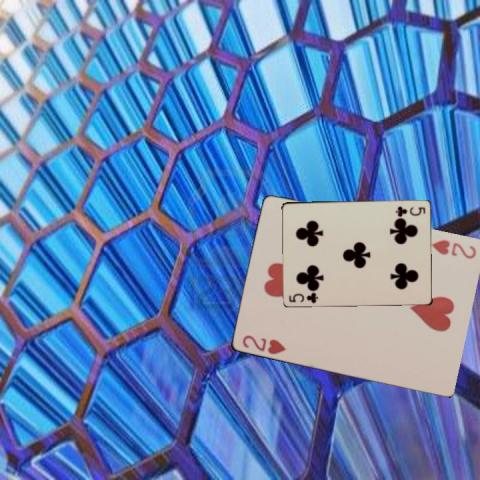2h: (428, 236, 478, 260), (238, 332, 286, 356)
5c: (286, 289, 319, 304), (393, 203, 427, 216)
